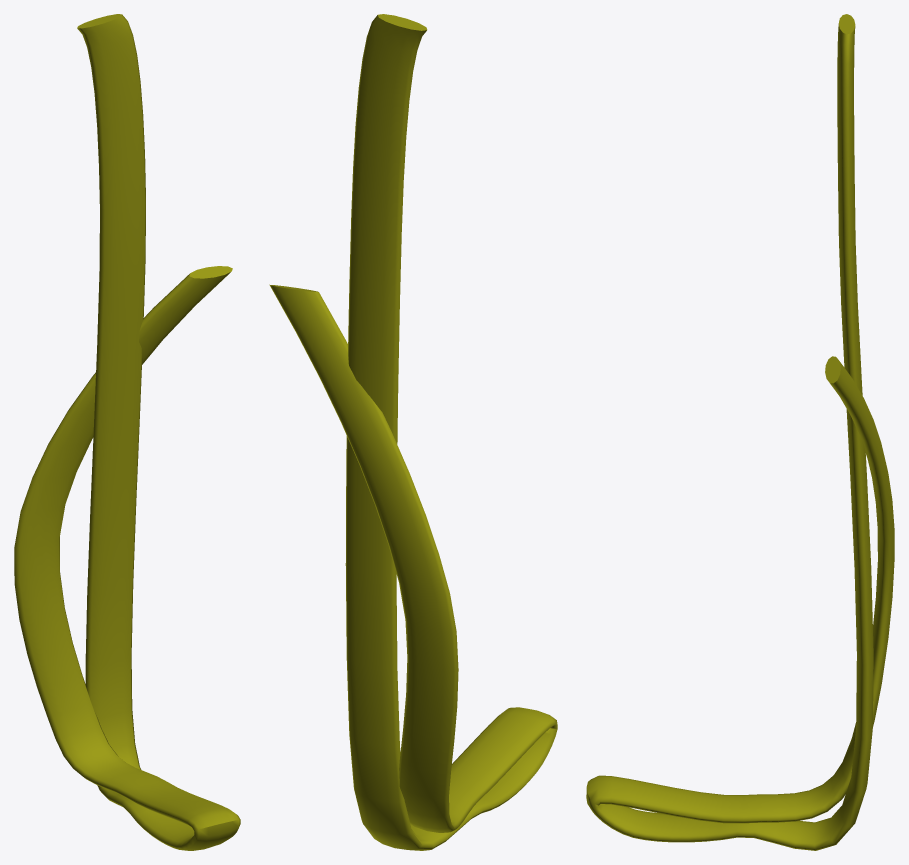
Rendered from Paperclip2_bent.FBX.
The picture shows the model from 3 angles, left to right: view 1: azimuth 30°, elevation 25°; view 2: azimuth 150°, elevation 25°; view 3: azimuth 270°, elevation 25°; orthographic projection. The views are drawn at different scales.
Visible parts, largest first — view 1: Paperclip2_bent; view 2: Paperclip2_bent; view 3: Paperclip2_bent.
Boxes of the visible parts, x1,y1,x2,y2 form: Paperclip2_bent: [14, 14, 240, 850]; Paperclip2_bent: [269, 14, 557, 850]; Paperclip2_bent: [586, 14, 894, 850].
Size of the model in its own units: 2.46 by 9.21 by 3.15.
